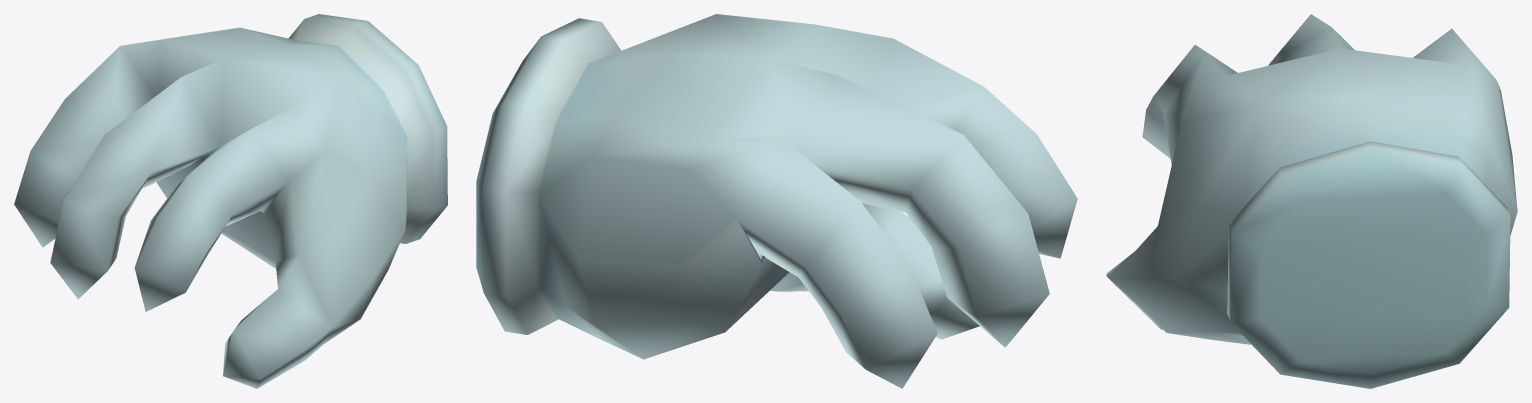
File: HManoD.obj
The picture shows the model from 3 angles, left to right: view 1: azimuth 30°, elevation 25°; view 2: azimuth 150°, elevation 25°; view 3: azimuth 270°, elevation 25°; orthographic projection. The views are drawn at different scales.
Parts seen in each view (by area): view 1: R_hand.001; view 2: R_hand.001; view 3: R_hand.001.
Boxes of the visible parts, box(x1,y1,x2,y2) form: R_hand.001: box(14, 14, 447, 388); R_hand.001: box(476, 14, 1077, 388); R_hand.001: box(1106, 14, 1517, 388).
Size of the model in its own units: 0.3673 by 0.2412 by 0.3034.
Materials: 1 (1 with a texture image).
